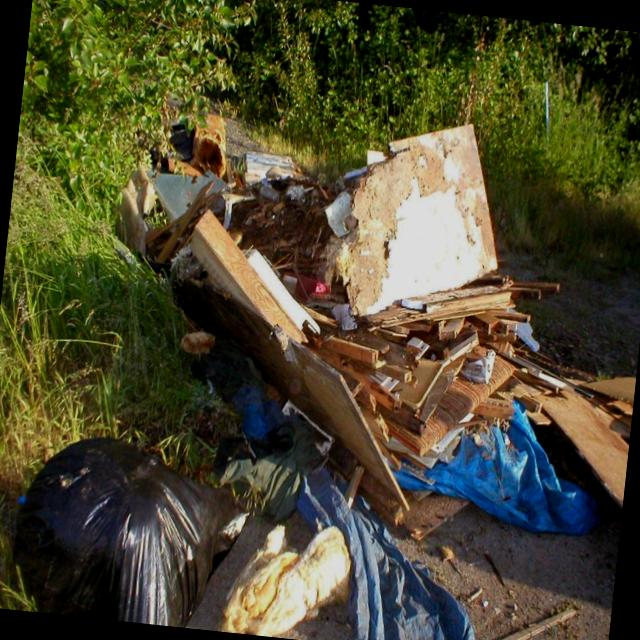garbage: (3, 81, 640, 640), (0, 433, 258, 633)
